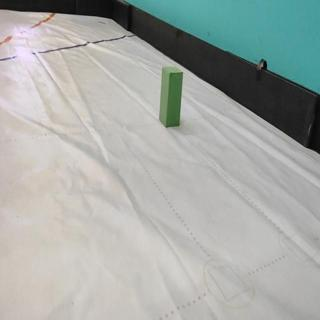greenbox: (160, 67, 184, 128)
